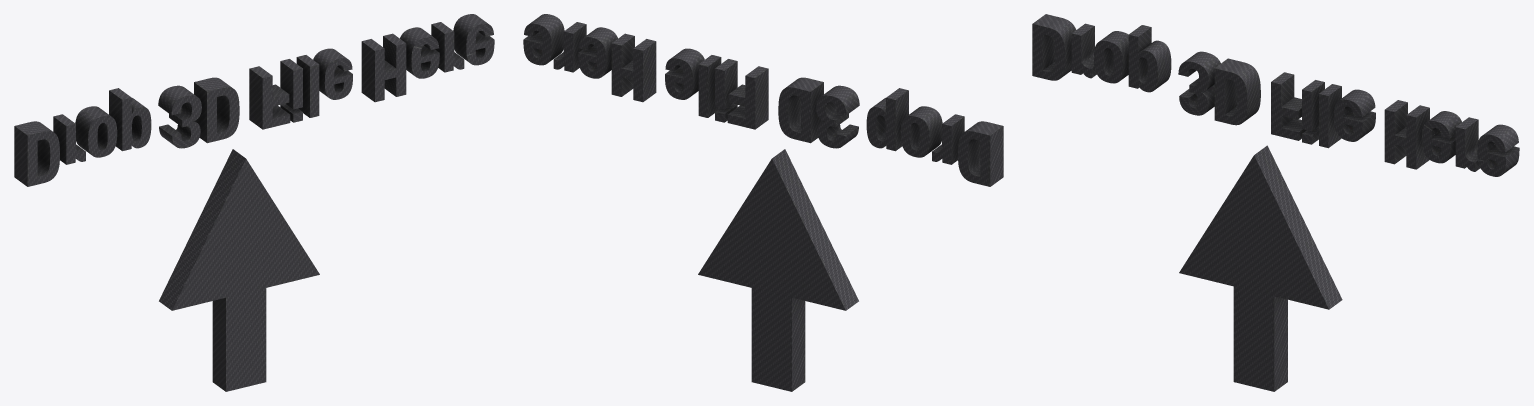
The model's file is drop-here.obj.
3 renders of one model, left to right at view 1: azimuth 30°, elevation 25°; view 2: azimuth 150°, elevation 25°; view 3: azimuth 330°, elevation 25°, orthographic.
Parts seen in each view (by area): view 1: NOName; view 2: NOName; view 3: NOName.
Boxes of the visible parts, x1,y1,x2,y2 form: NOName: [14, 14, 494, 391]; NOName: [523, 14, 1003, 391]; NOName: [1032, 14, 1519, 391].
Bounding box in the file's own units: 5 × 3.25 × 0.2458.
1 material, 1 textured.
